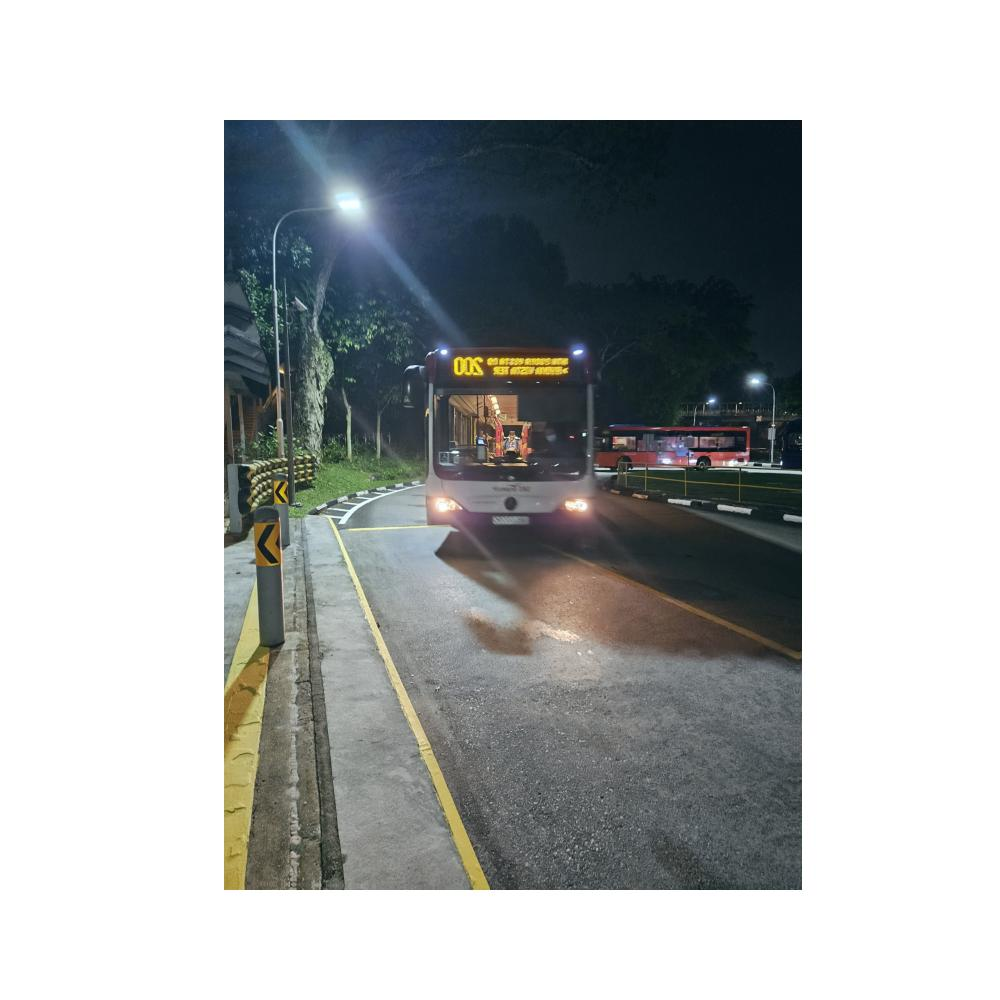bus: (407, 339, 609, 536), (596, 419, 753, 478)
